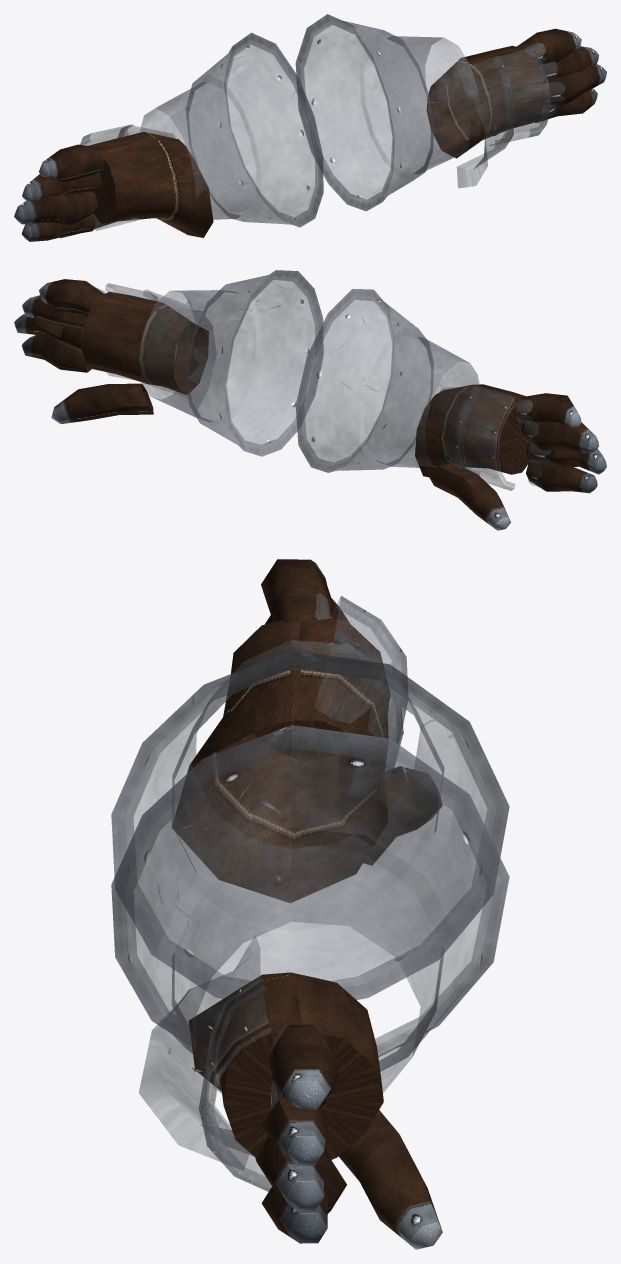
The model's file is gantelets_acier_nordique.glb.
The picture shows the model from 3 angles, top to bottom: view 1: azimuth 30°, elevation 25°; view 2: azimuth 150°, elevation 25°; view 3: azimuth 270°, elevation 25°; orthographic projection. The views are drawn at different scales.
Parts seen in each view (by area): view 1: gantelets_acier_nordique.001; view 2: gantelets_acier_nordique.001; view 3: gantelets_acier_nordique.001.
Boxes of the visible parts, left/top/right/bottom form: gantelets_acier_nordique.001: left=14, top=14, right=606, bottom=241; gantelets_acier_nordique.001: left=14, top=270, right=606, bottom=530; gantelets_acier_nordique.001: left=111, top=559, right=509, bottom=1249.
Bounding box in the file's own units: 0.816 × 0.2344 × 0.2374.
2 materials, 2 textured.
